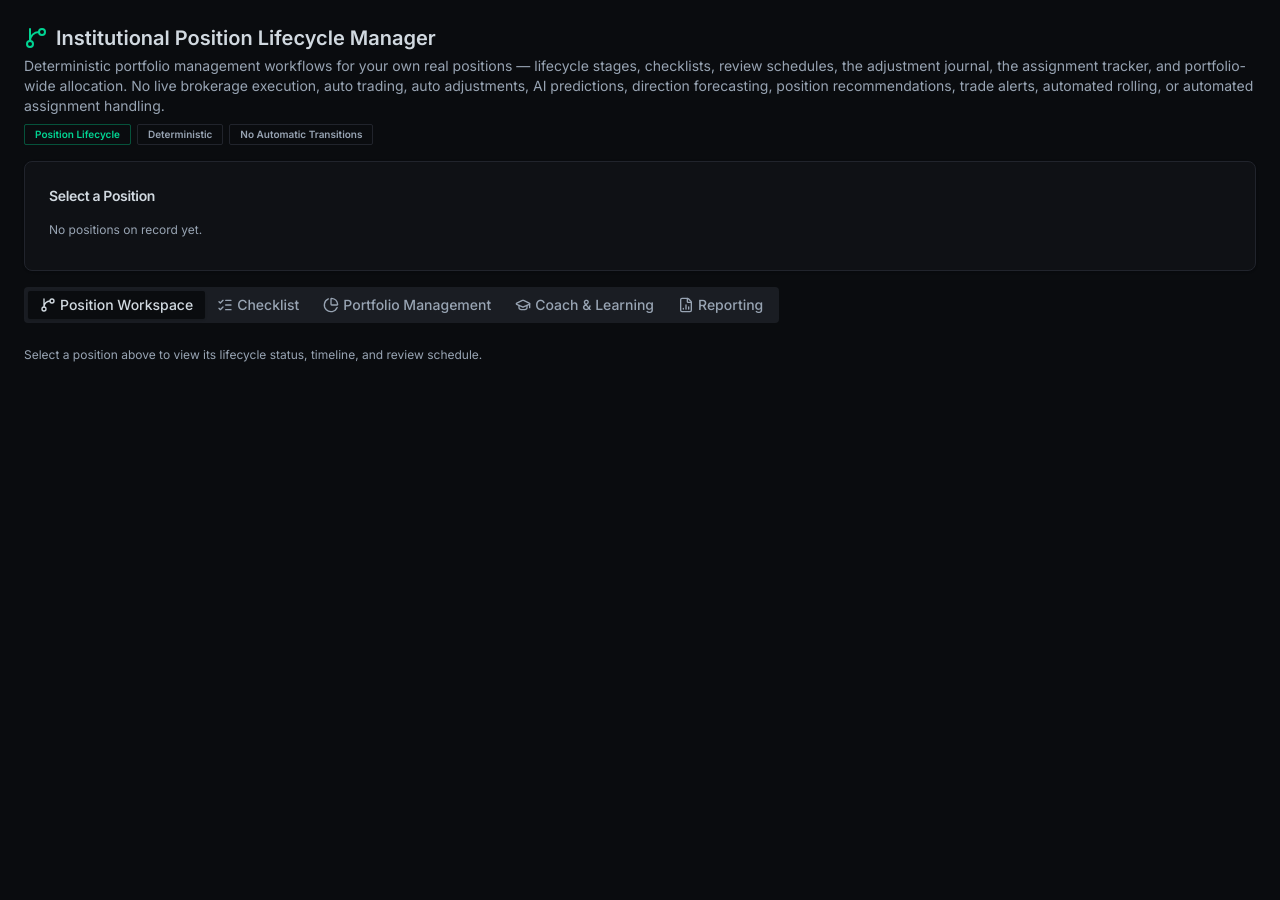
OptionsLifecycleManager › Coach & Learning shows the deterministic AI Coach topics and per-stage Learning Centre links
This screenshot has width=1280, height=900.
Click the tab with test id "tab-olm-learning": (585,305) [503,291,666,319]
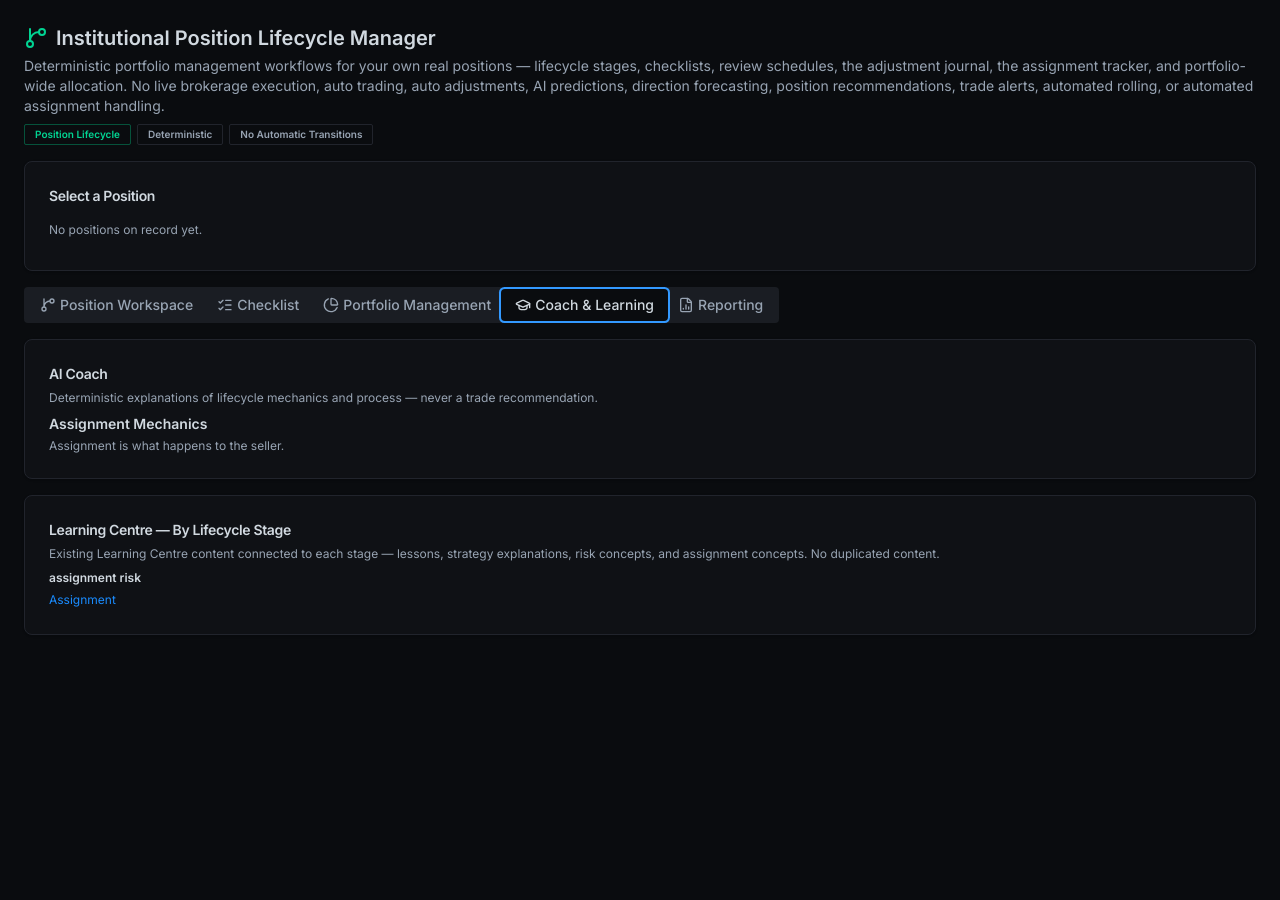
Check: the element with test id "coach-topic-assignment_mechanics" shows "Assignment Mechanics", box [49,415,207,432]
Check: the element with test id "learning-stage-assignment_risk" is shown, box [49,570,141,607]
